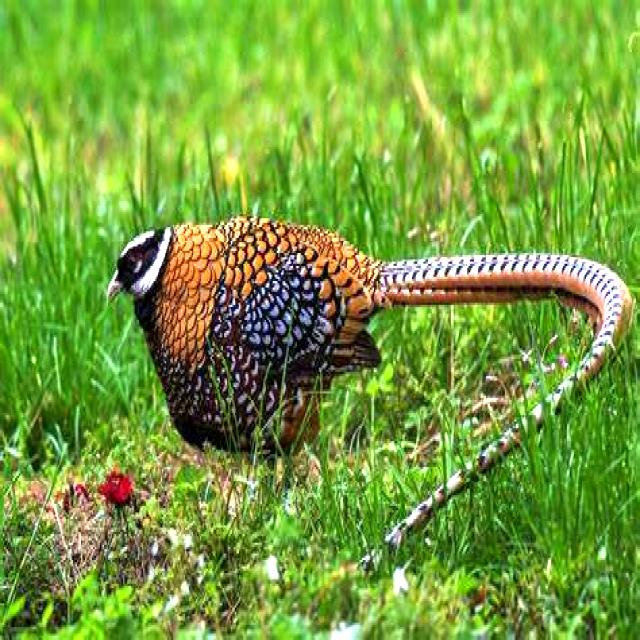Reeves-s Pheasant: (358, 251, 633, 571)
